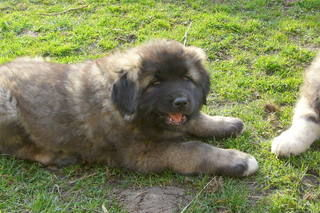cau_ovcharka: (0, 40, 258, 177)
